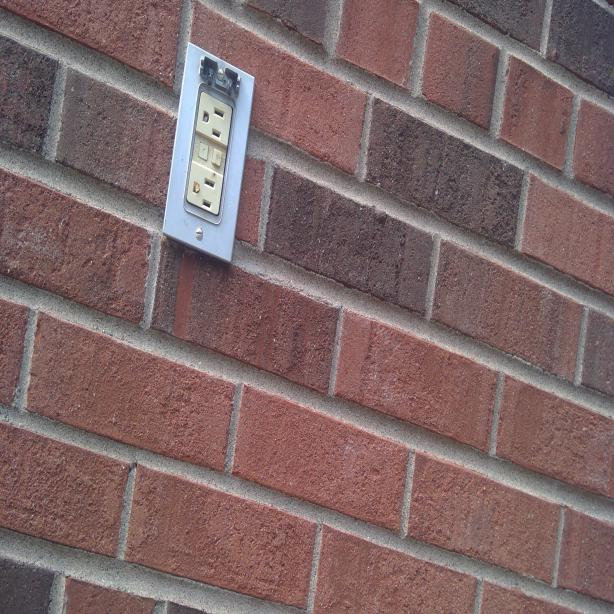typeb: (188, 162, 224, 214), (195, 95, 232, 142)
